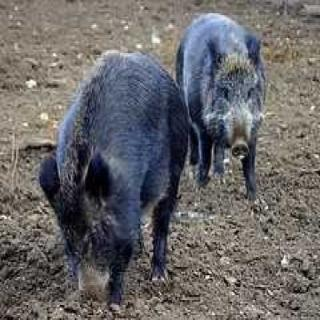Pig: (50, 38, 185, 302), (168, 0, 277, 206)
